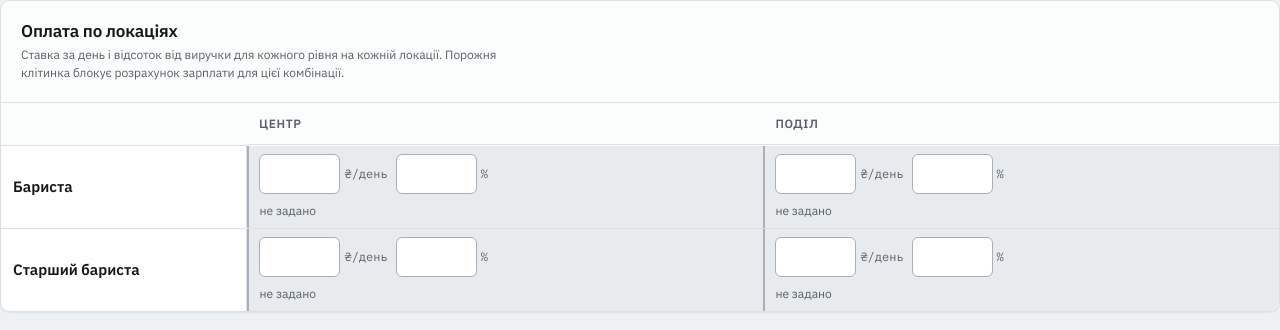
Test case: pay matrix › withdraws the saved confirmation as soon as the figure is edited again
Check: the column heading "Бариста" is shown, box 1,146 -> 247,228
Type "600" into the field named "Ставка ₴/день — Бариста, Центр".
click(300, 174); type("600")  # box 260,154 -> 340,194
Then press Enter
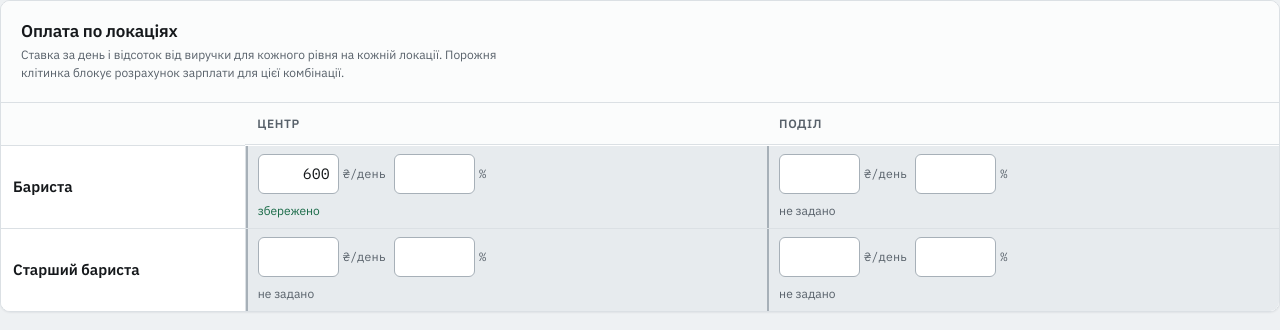
Check: the text "збережено" is shown, box 258,203 -> 320,218
Type "5" into the field named "Ставка ₴/день — Бариста, Центр".
click(298, 174); type("5")  # box 258,154 -> 339,194
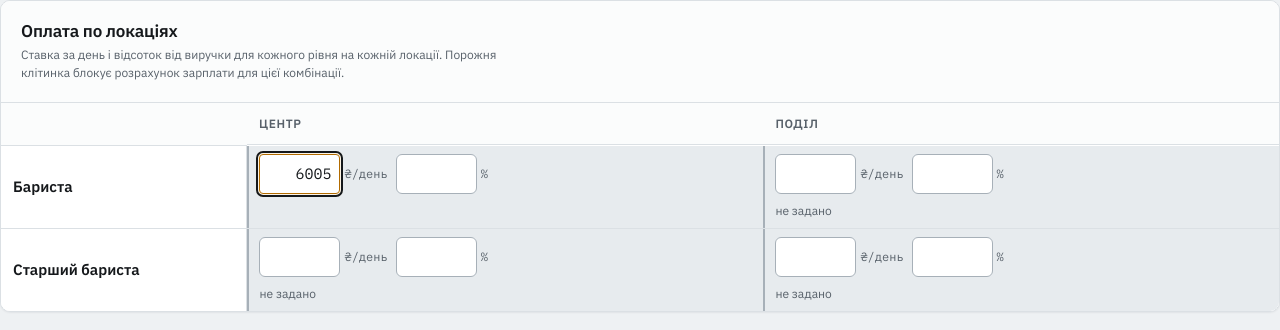
Check: the text "збережено" is gone
